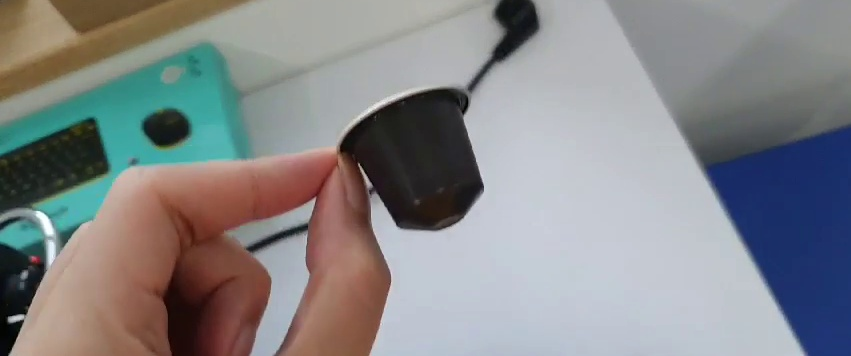capsule_4: (336, 87, 486, 232)
